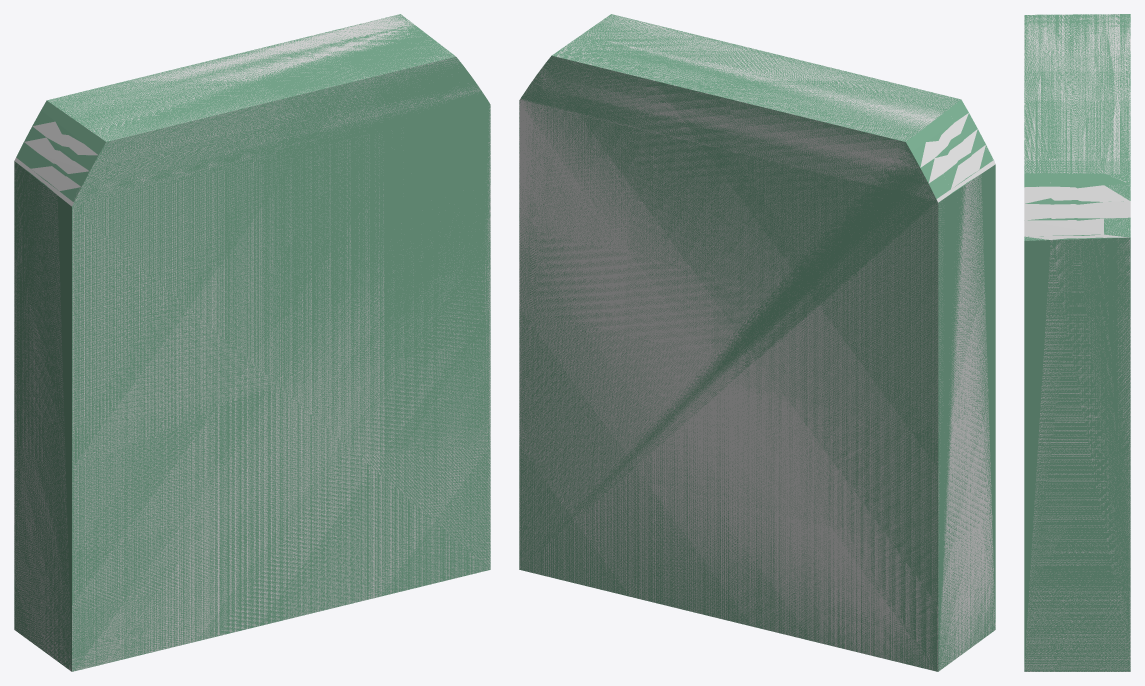
Rendered from avionics_tray.fbx.
3 renders of one model, left to right at view 1: azimuth 30°, elevation 25°; view 2: azimuth 150°, elevation 25°; view 3: azimuth 270°, elevation 25°, orthographic. The views are drawn at different scales.
Parts seen in each view (by area): view 1: avionics_tray, avionics_tray_colmesh0; view 2: avionics_tray, avionics_tray_colmesh0; view 3: avionics_tray, avionics_tray_colmesh0.
Part boxes in pixels (x1,y1,x2,y2): avionics_tray: (14,14,490,671); avionics_tray_colmesh0: (14,14,490,671); avionics_tray: (519,14,995,671); avionics_tray_colmesh0: (519,14,995,671); avionics_tray: (1024,14,1130,671); avionics_tray_colmesh0: (1024,14,1130,671).
Size of what is drawn, in the model's own units: 0.84 by 1 by 0.2.
